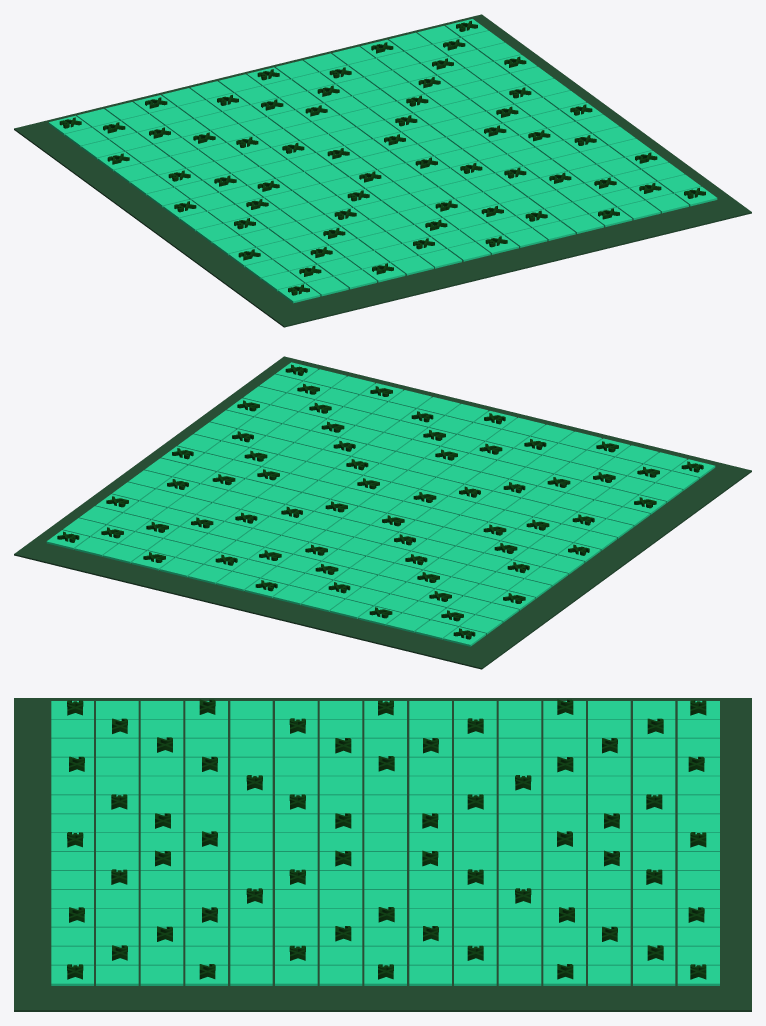
The model's file is Boardtung.fbx.
3 renders of one model, top to bottom at view 1: azimuth 30°, elevation 25°; view 2: azimuth 150°, elevation 25°; view 3: azimuth 270°, elevation 25°, orthographic. The views are drawn at different scales.
Parts seen in each view (by area): view 1: Cube; view 2: Cube; view 3: Cube.
Boxes of the visible parts, x1,y1,x2,y2 form: Cube: [14, 14, 751, 327]; Cube: [14, 356, 751, 669]; Cube: [14, 698, 751, 1011].
Bounding box in the file's own units: 3465 × 97.9 × 3465.
